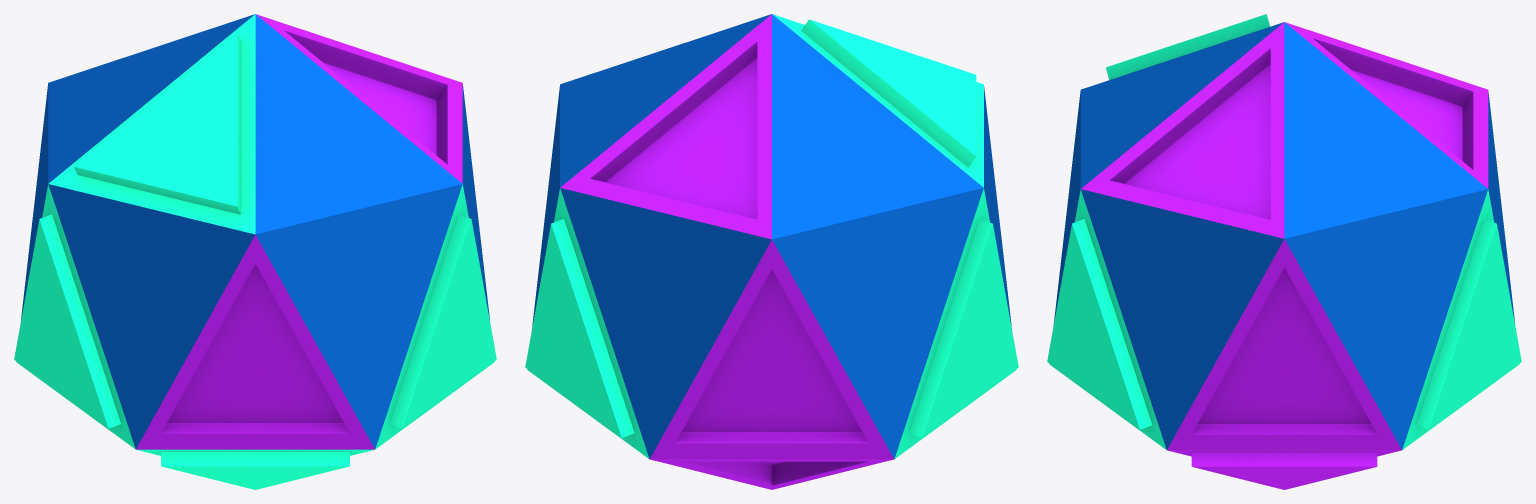
File: Polyzok.glb
3 renders of one model, left to right at view 1: azimuth 30°, elevation 25°; view 2: azimuth 150°, elevation 25°; view 3: azimuth 270°, elevation 25°, orthographic. The views are drawn at different scales.
Visible parts, largest first — view 1: LogoIco; view 2: LogoIco; view 3: LogoIco.
Part boxes in pixels (x1=…): LogoIco: x1=14, y1=14, x2=496, y2=489; LogoIco: x1=525, y1=14, x2=1018, y2=489; LogoIco: x1=1047, y1=14, x2=1521, y2=489.
Bounding box in the file's own units: 2.53 × 2.66 × 2.5.
Materials: 1 (1 with a texture image).
